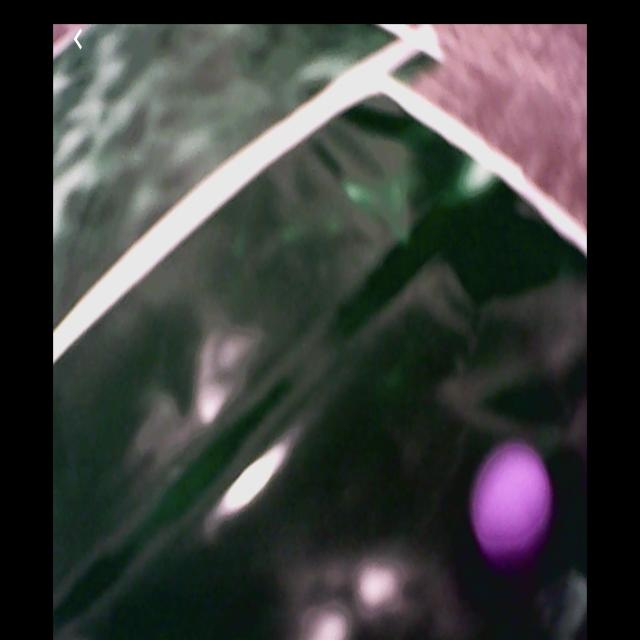ball: (469, 439, 556, 570)
